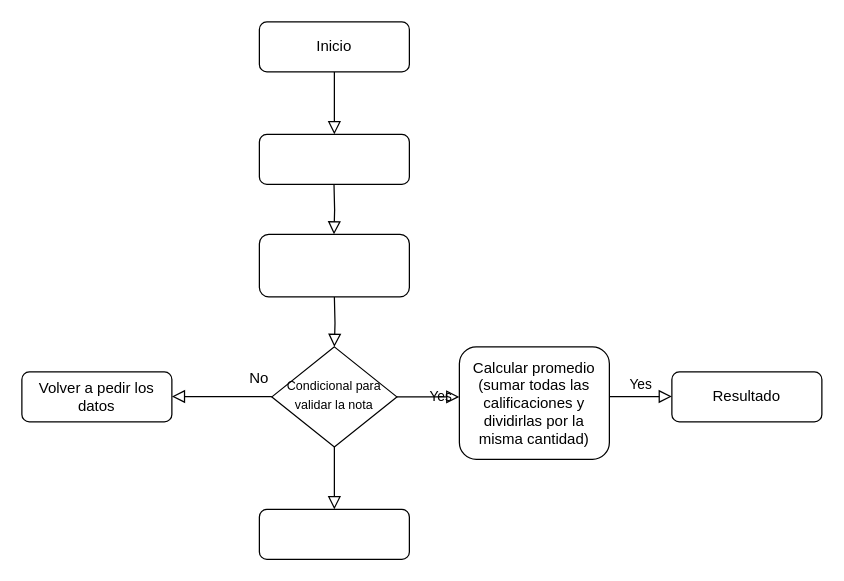
This 844x581 diagram has some shape labels left out. The centre of each missing label's shape, as x and y in pixels:
"Ingresar las n calificaciones (double)" goes at pixel 333 265.
"Solicitar cuantas calificaciones" goes at pixel 333 158.
"Uso de Bucle" goes at pixel 333 533.
